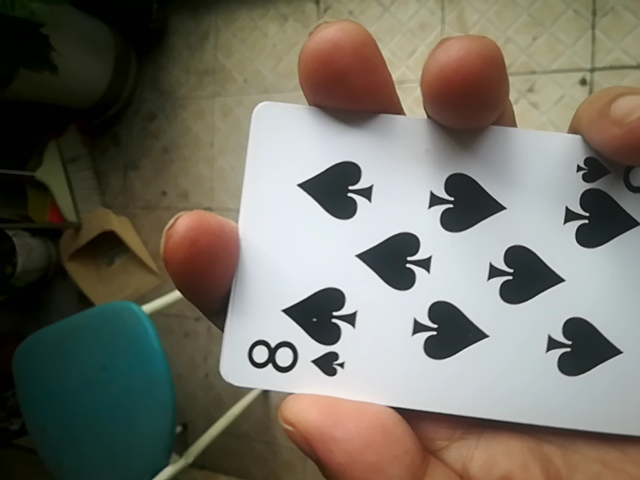ht 8: (223, 100, 636, 453)
